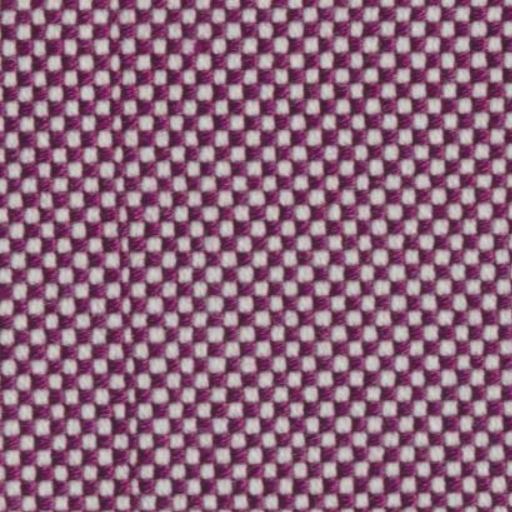TuoSha: (84, 10, 160, 502)
